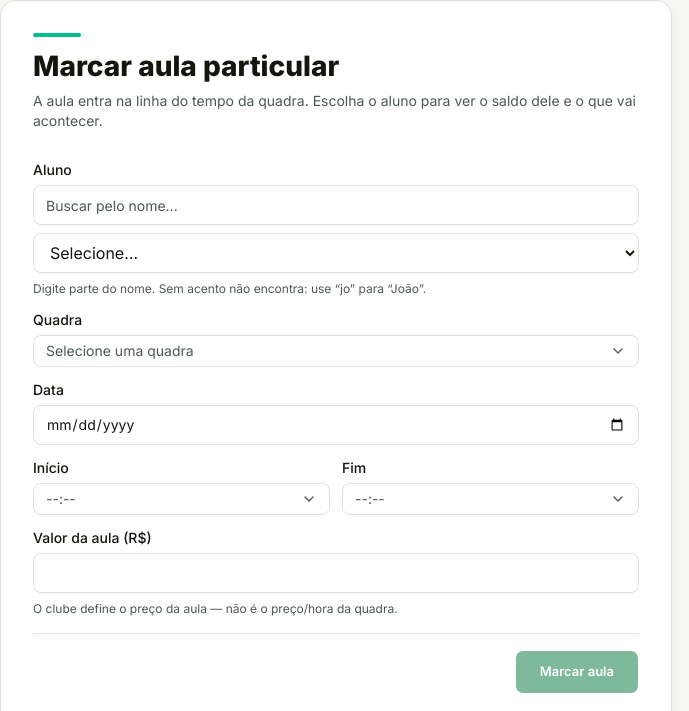
Test: MarcarAulaParticular › as horas oferecidas ficam DENTRO da janela
This screenshot has width=689, height=711.
Select "Ana" in the dropdown labelled "Aluno". click: (336, 253)
box: [33,233,639,273]
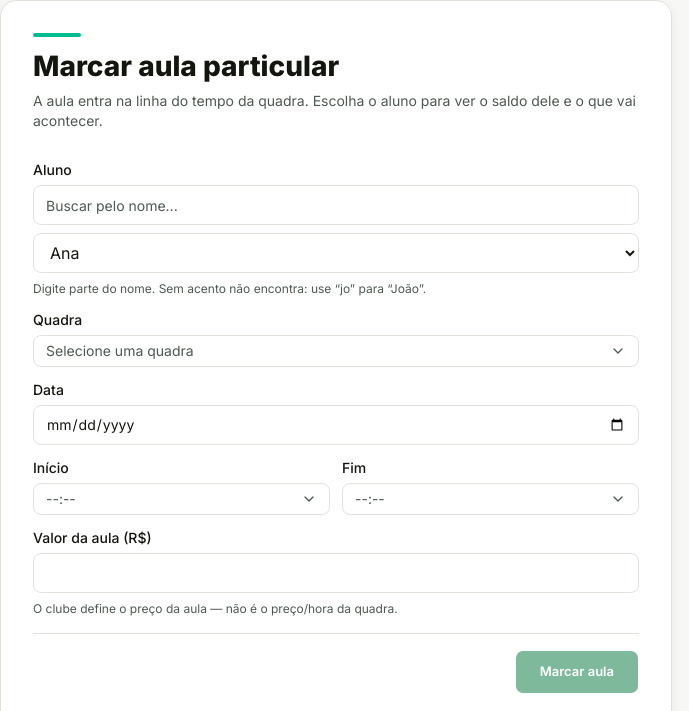
Click the dropdown labelled "quadra". click: (120, 350)
box: [33,335,639,367]
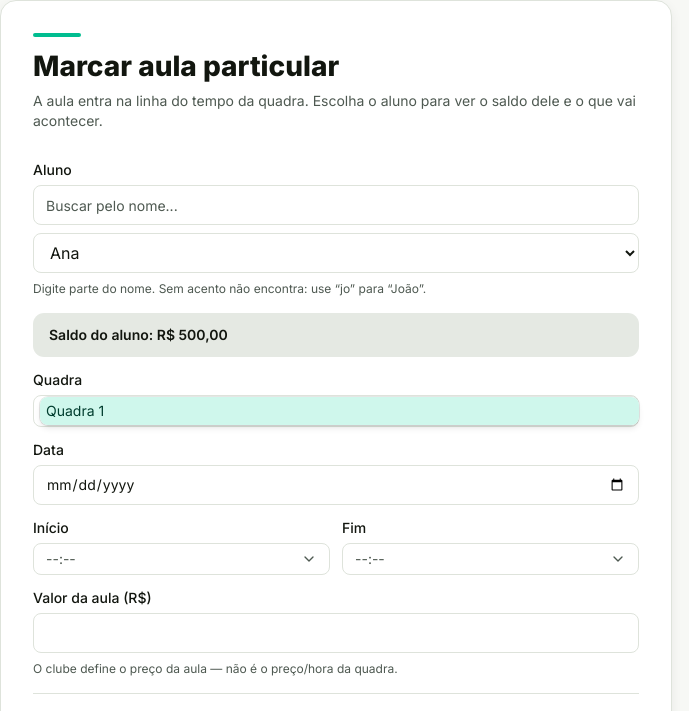
Click the option "Quadra 1". click: (75, 410)
box: [40,397,639,425]
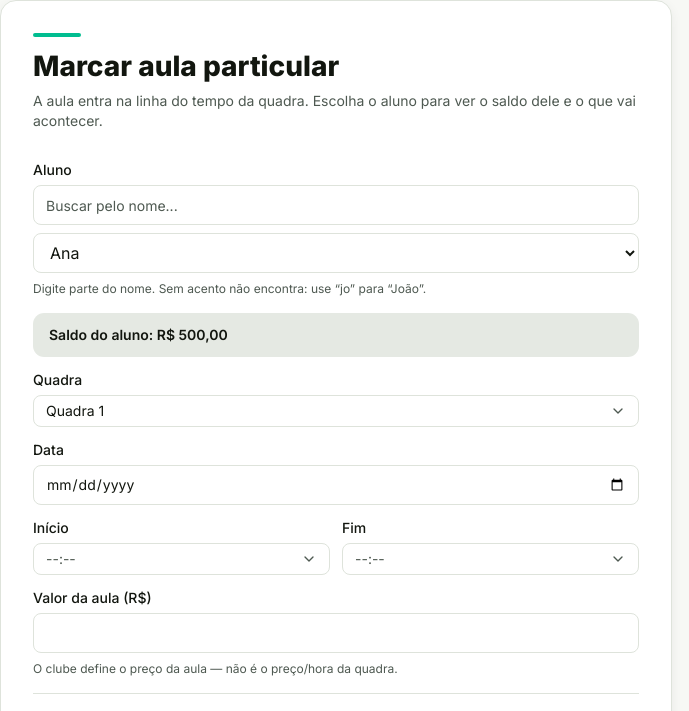
Type "2035-06-07" into the date field labelled "Data". click: (336, 485)
box: [33,465,639,505]
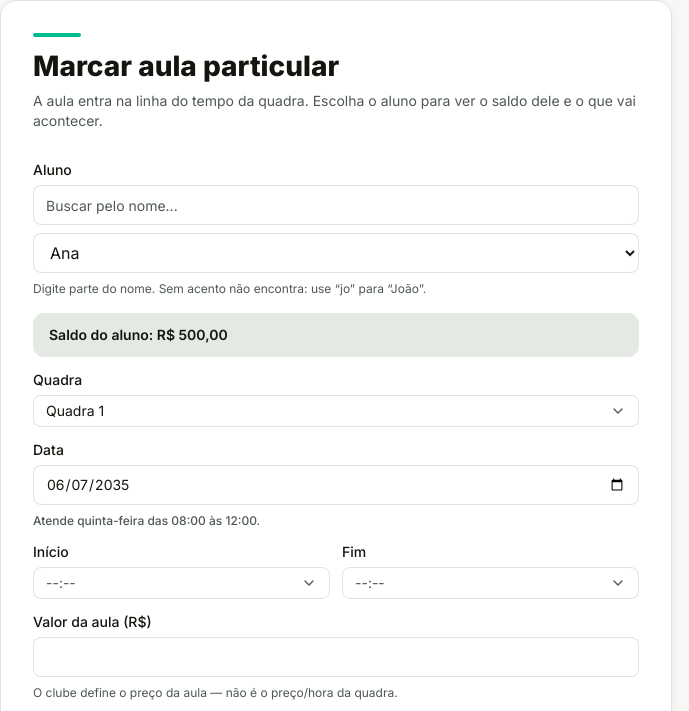
Click the dropdown named "Início". click: (61, 582)
box: [33,567,330,599]
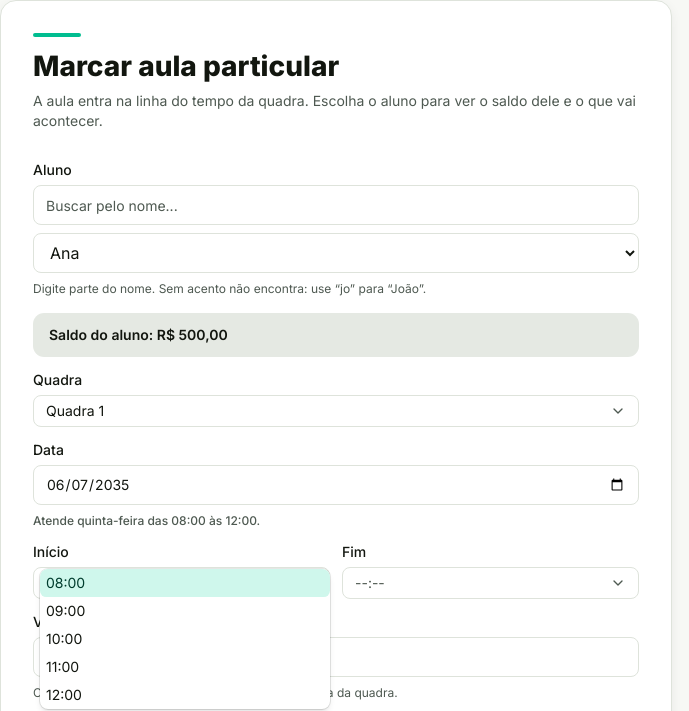
Check: the option "08:00" is shown, box [40,569,330,597]
